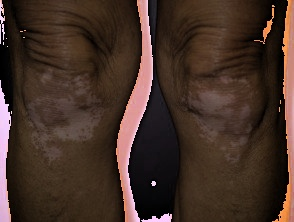vitiligo: (0, 21, 147, 188), (168, 63, 270, 188)
